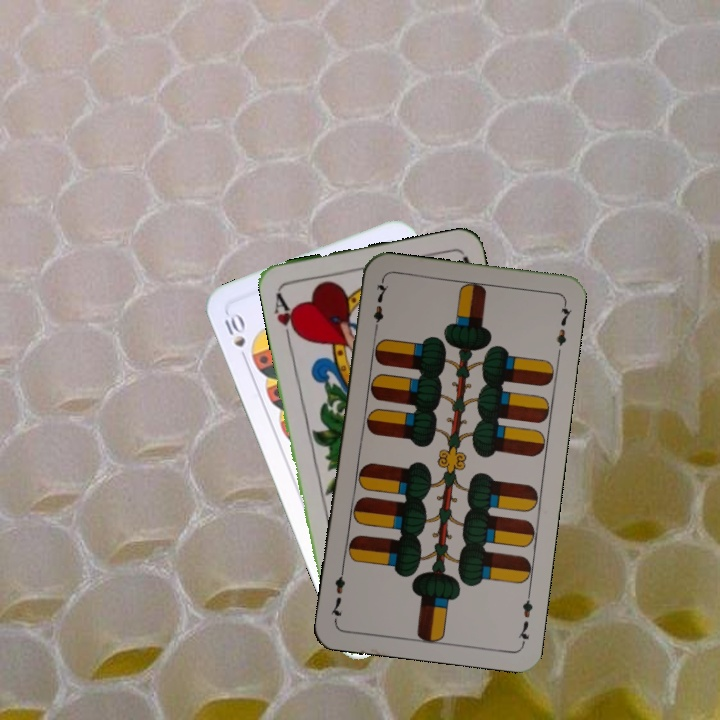E7: (369, 277, 391, 336), (514, 587, 535, 646)
HA: (270, 288, 302, 346)
S10: (220, 308, 251, 366)
